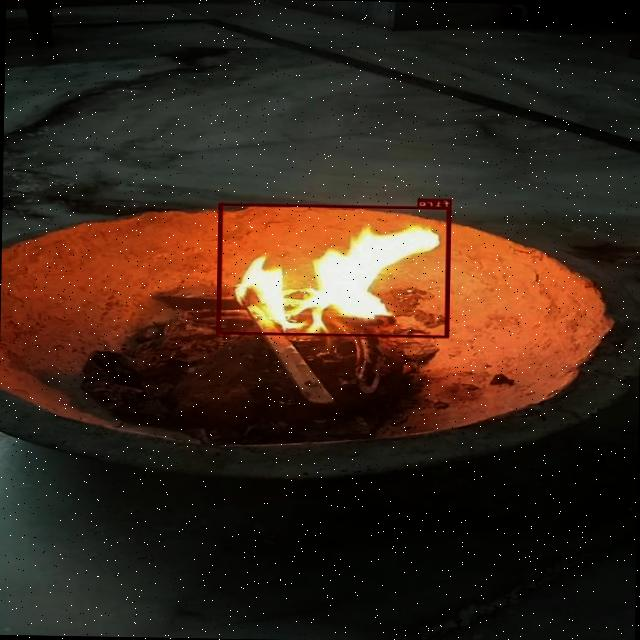fire: (218, 202, 452, 337)
